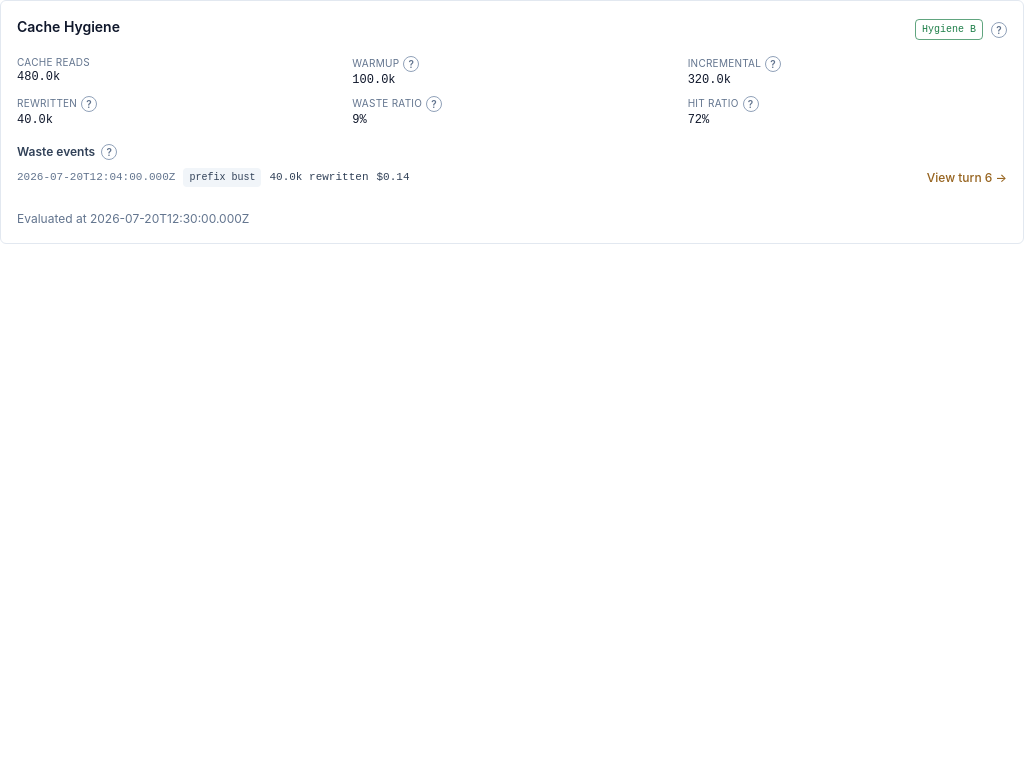
Test case: ScorecardView › opens the grade's info modal with the hygiene formula and this session's band cutoffs
This screenshot has width=1024, height=768.
What coordinates should you click on to do the following:
click the button named "What does this grade mean?"
I would click on:
 (999, 30)
Its box is [991, 22, 1007, 38].
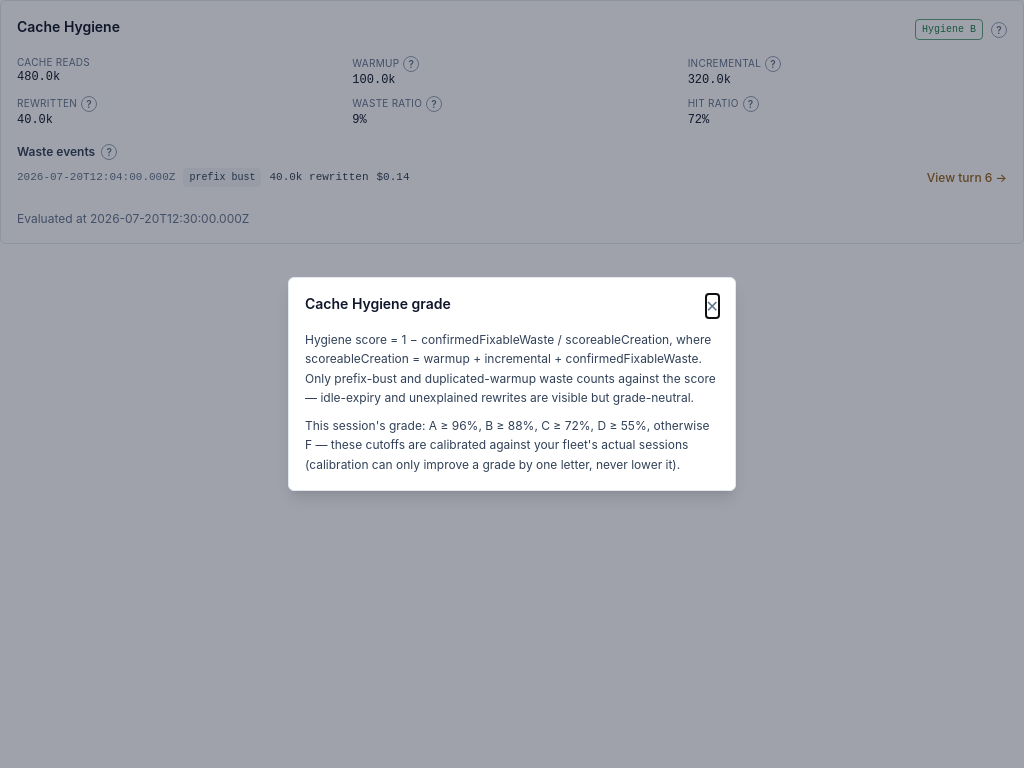
Expected: the text "1 − confirmedFixableWaste" is shown, [305, 332, 716, 405]
Expected: the text "calibrated against your fleet" is shown, [305, 418, 710, 472]
